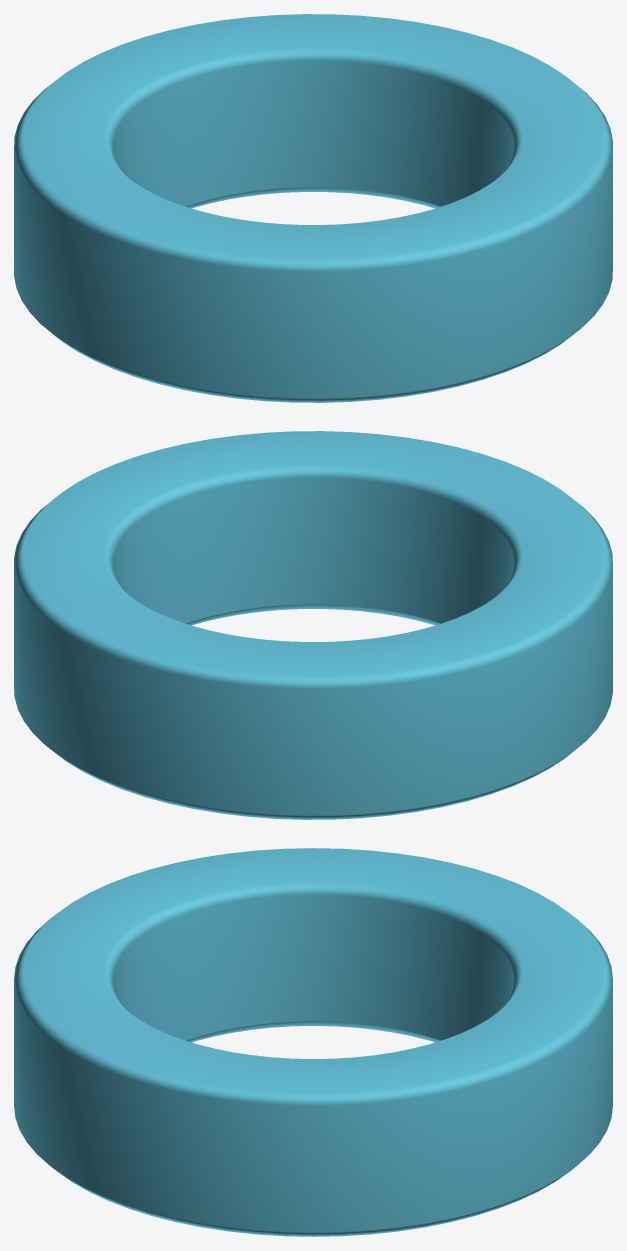
3 views of the same model, one above another, from view 1: azimuth 30°, elevation 25°; view 2: azimuth 150°, elevation 25°; view 3: azimuth 270°, elevation 25° (orthographic).
Parts seen in each view (by area): view 1: seal_body; view 2: seal_body; view 3: seal_body.
Boxes of the visible parts, x1,y1,x2,y2 form: seal_body: (14,14,612,402); seal_body: (14,431,612,819); seal_body: (14,848,612,1236).
Size of the model in its own units: 0.06 by 0.0159 by 0.06.
